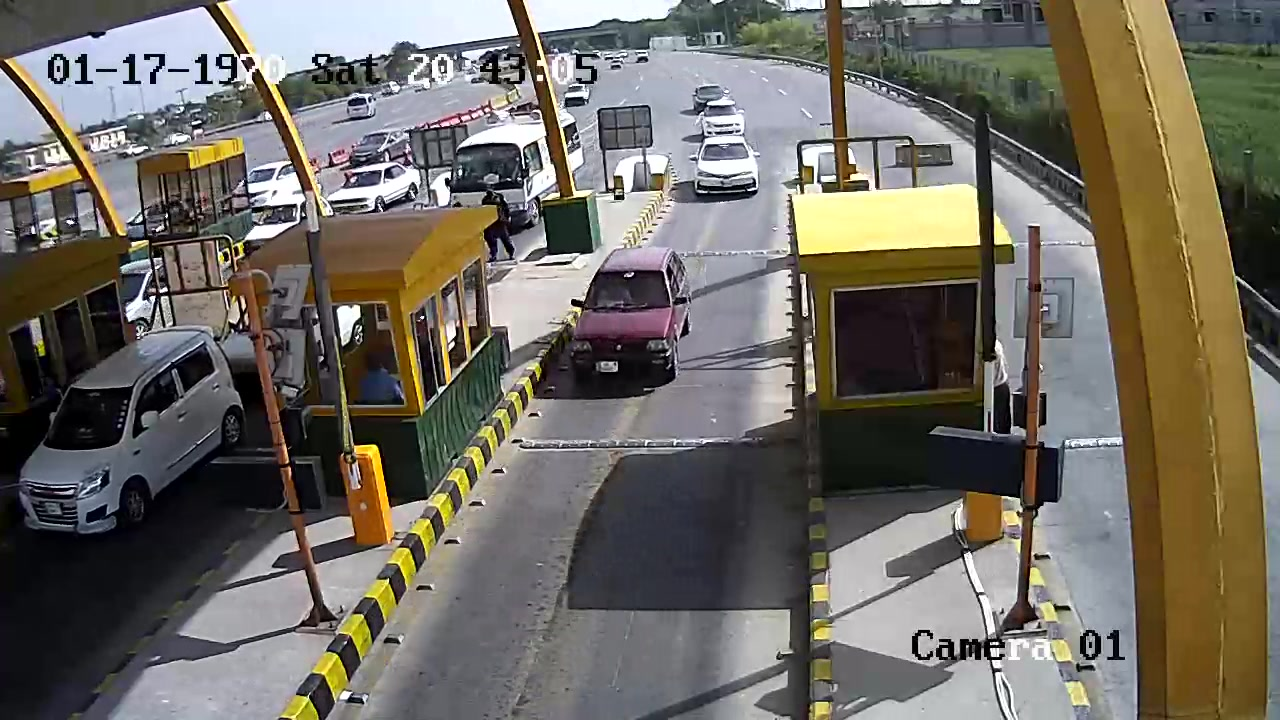F1: (565, 242, 699, 407)
